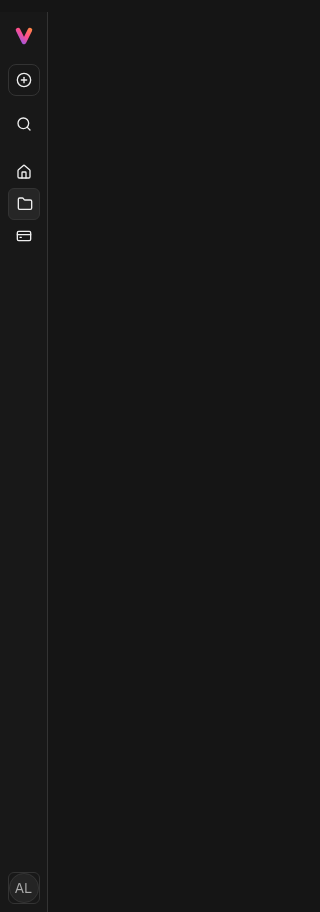
it: AppSidebar collapsed to icons › the logo expands it again
This screenshot has width=320, height=912.
Click the button named "Expand sidebar" at (24, 36), box top-left (8, 20), bottom-right (40, 52)
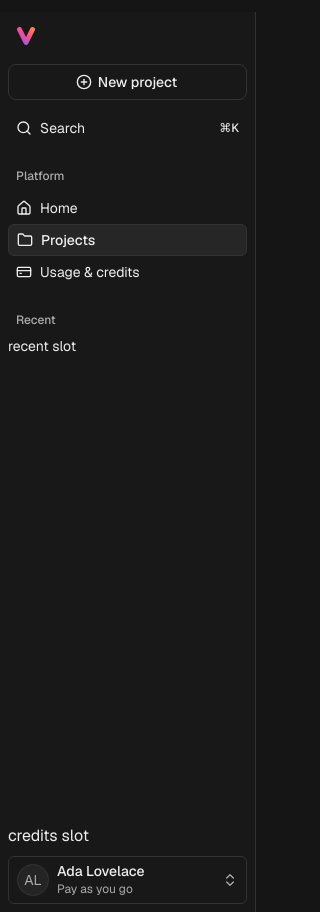
Check: the element that starts with "New project" has attribute data-state="expanded"
